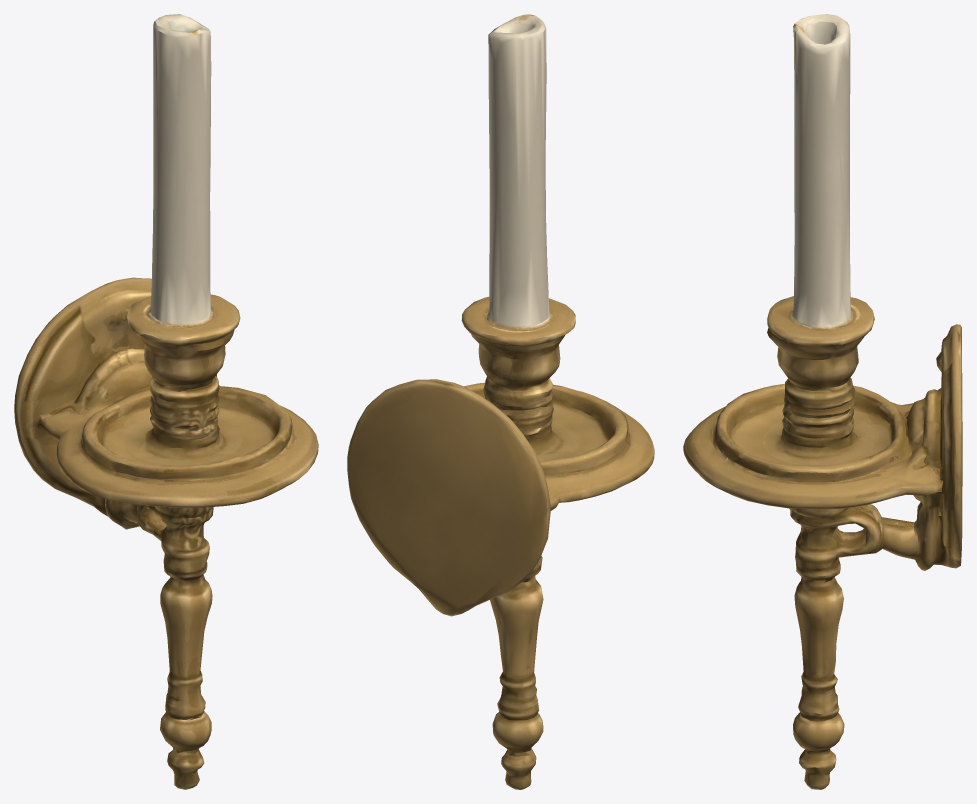
File: Sconce.glb
3 renders of one model, left to right at view 1: azimuth 30°, elevation 25°; view 2: azimuth 150°, elevation 25°; view 3: azimuth 270°, elevation 25°, orthographic.
Parts seen in each view (by area): view 1: Sconce; view 2: Sconce; view 3: Sconce.
Part boxes in pixels (x1,y1,x2,y2): Sconce: (14, 14, 318, 789); Sconce: (347, 14, 654, 789); Sconce: (683, 14, 962, 789).
Size of the model in its own units: 0.1715 by 0.54 by 0.1795.
Materials: 1 (1 with a texture image).
